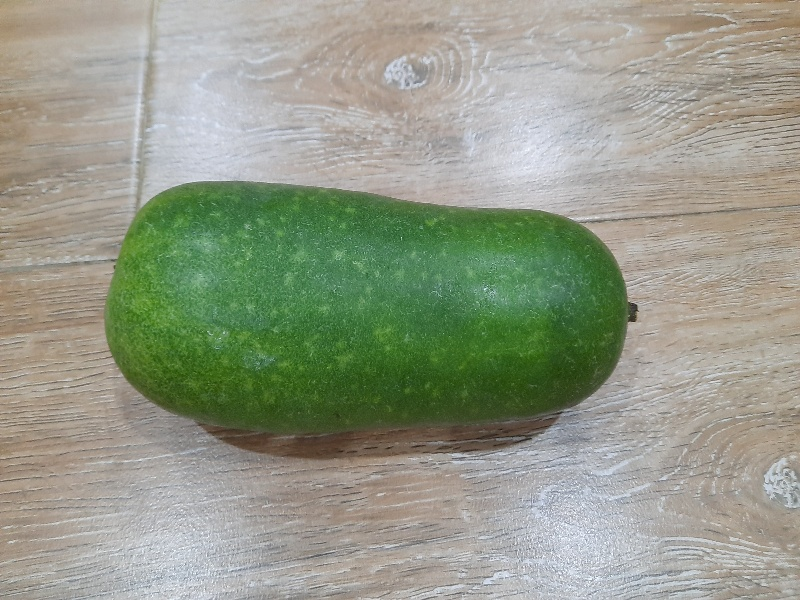vege: (97, 166, 638, 449)
